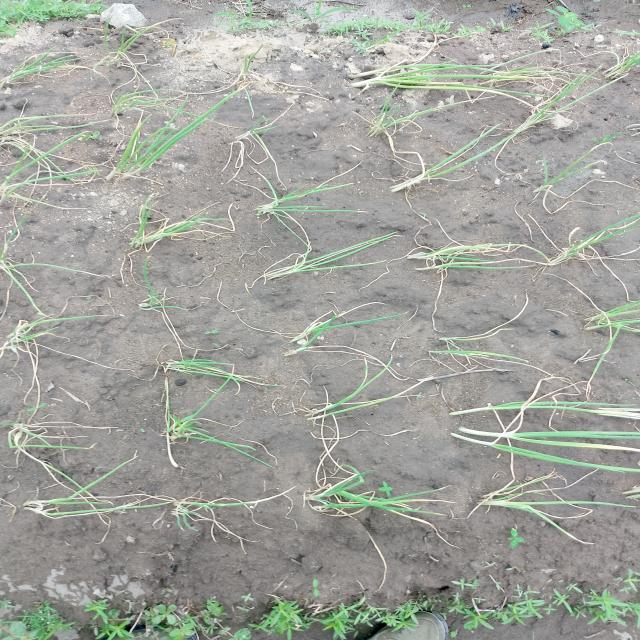Spring Onion: (302, 467, 416, 530), (433, 388, 527, 454), (2, 482, 106, 538), (146, 404, 228, 459), (253, 243, 355, 286), (277, 386, 386, 426), (501, 92, 583, 142), (464, 476, 548, 524), (369, 154, 438, 208), (7, 397, 70, 456), (342, 49, 406, 106), (428, 313, 486, 374), (0, 50, 57, 112), (251, 186, 321, 235), (104, 127, 156, 192), (275, 320, 345, 366), (132, 200, 180, 266), (540, 223, 596, 278), (402, 239, 472, 279), (577, 301, 640, 344), (145, 348, 216, 386), (130, 287, 195, 327), (225, 114, 286, 156), (0, 240, 45, 296), (360, 104, 419, 146), (0, 154, 38, 215), (220, 437, 280, 471), (518, 172, 578, 205), (108, 86, 164, 121), (296, 398, 364, 424), (343, 348, 405, 376), (80, 591, 126, 626), (570, 459, 628, 484), (614, 480, 640, 520)
